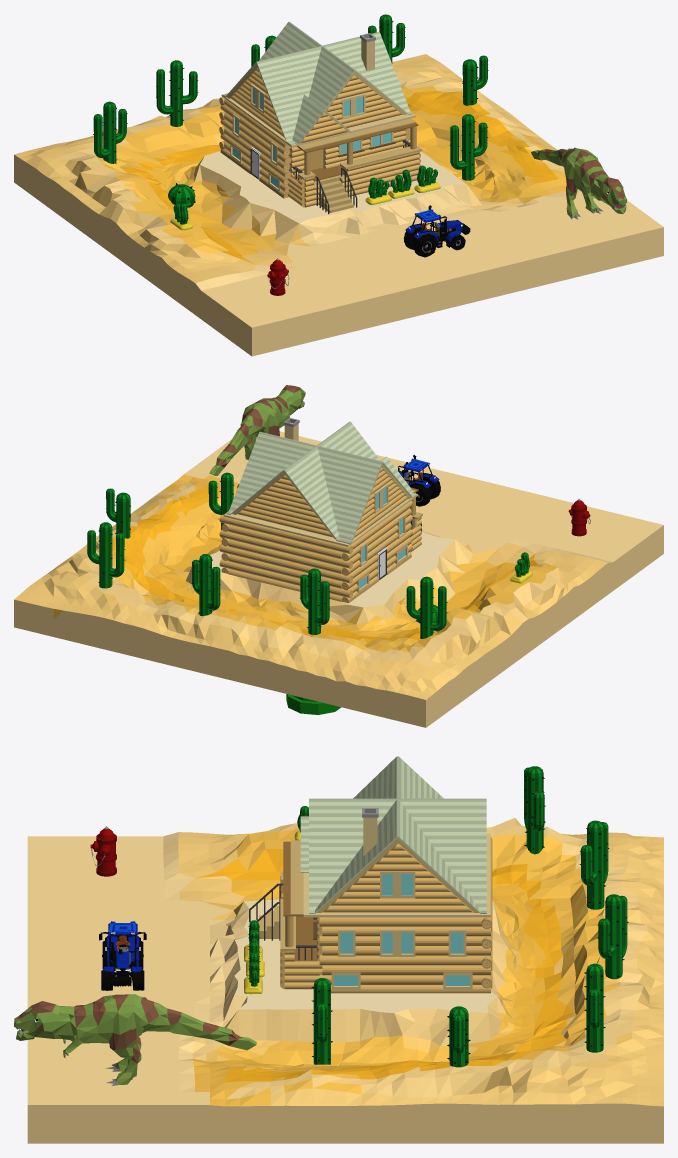
3 renders of one model, top to bottom at view 1: azimuth 30°, elevation 25°; view 2: azimuth 150°, elevation 25°; view 3: azimuth 270°, elevation 25°, orthographic. The views are drawn at different scales.
Visible parts, largest first — view 1: Cube.001, Cube.1516, ANIMAL_TREX, VEHICLES_TRACTOR, Cylinder.044, Cylinder.037, Cylinder.045, Cylinder.038, Cylinder.042, OBJRANDOM_FIRE_HYDRANT, Cylinder.039, Cylinder.041 (+1 smaller); view 2: Cube.001, Cube.1516, ANIMAL_TREX, Cylinder.042, Cylinder.045, Cylinder.044, Cylinder.043, VEHICLES_TRACTOR, Cylinder.038, Cylinder.037, UNDERGROUND_PIPES, OBJRANDOM_FIRE_HYDRANT; view 3: Cube.001, Cube.1516, ANIMAL_TREX, VEHICLES_TRACTOR, Cylinder.043, Cylinder.044, Cylinder.045, Cylinder.042, Cylinder.037, Cylinder.038, OBJRANDOM_FIRE_HYDRANT, Cylinder.041.
Boxes of the visible parts, x1,y1,x2,y2 form: Cube.001: (14, 54, 663, 356); Cube.1516: (219, 21, 422, 214); ANIMAL_TREX: (531, 147, 627, 219); VEHICLES_TRACTOR: (403, 205, 470, 257); Cylinder.044: (156, 60, 198, 126); Cylinder.037: (449, 114, 488, 180); Cylinder.045: (93, 101, 127, 163); Cylinder.038: (462, 55, 488, 105); Cylinder.042: (368, 14, 405, 63); OBJRANDOM_FIRE_HYDRANT: (267, 258, 289, 295); Cylinder.039: (365, 177, 391, 204); Cylinder.041: (414, 165, 440, 192); Cube.001: (14, 431, 663, 727); Cube.1516: (219, 418, 422, 603); ANIMAL_TREX: (209, 385, 305, 475); Cylinder.042: (87, 522, 125, 588); Cylinder.045: (406, 576, 447, 638); Cylinder.044: (300, 568, 329, 634); Cylinder.043: (191, 554, 220, 616); VEHICLES_TRACTOR: (398, 454, 440, 506); Cylinder.038: (106, 488, 130, 538); Cylinder.037: (208, 472, 238, 538); UNDERGROUND_PIPES: (286, 694, 340, 714); OBJRANDOM_FIRE_HYDRANT: (568, 498, 590, 536); Cube.001: (27, 818, 663, 1143); Cube.1516: (249, 756, 492, 993); ANIMAL_TREX: (14, 994, 256, 1085); VEHICLES_TRACTOR: (99, 921, 146, 990); Cylinder.043: (597, 894, 628, 979); Cylinder.044: (579, 820, 609, 909); Cylinder.045: (524, 766, 545, 854); Cylinder.042: (584, 963, 605, 1052); Cylinder.037: (311, 978, 332, 1064); Cylinder.038: (447, 1006, 470, 1067); OBJRANDOM_FIRE_HYDRANT: (90, 826, 116, 876); Cylinder.041: (244, 952, 262, 994).
Size of the model in its own units: 4002 by 2210 by 4088.
34 materials, 3 textured.
